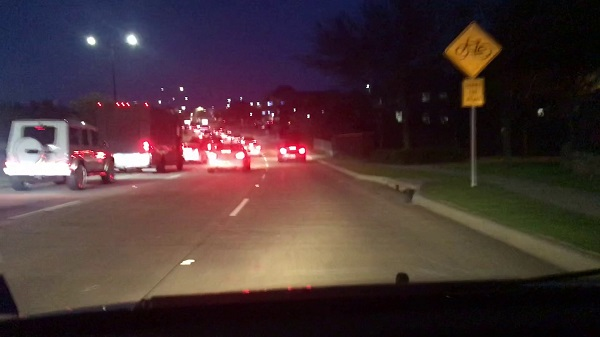bus: (92, 97, 188, 171)
car: (4, 118, 119, 188), (208, 143, 252, 172), (275, 139, 306, 159), (184, 137, 207, 163)
